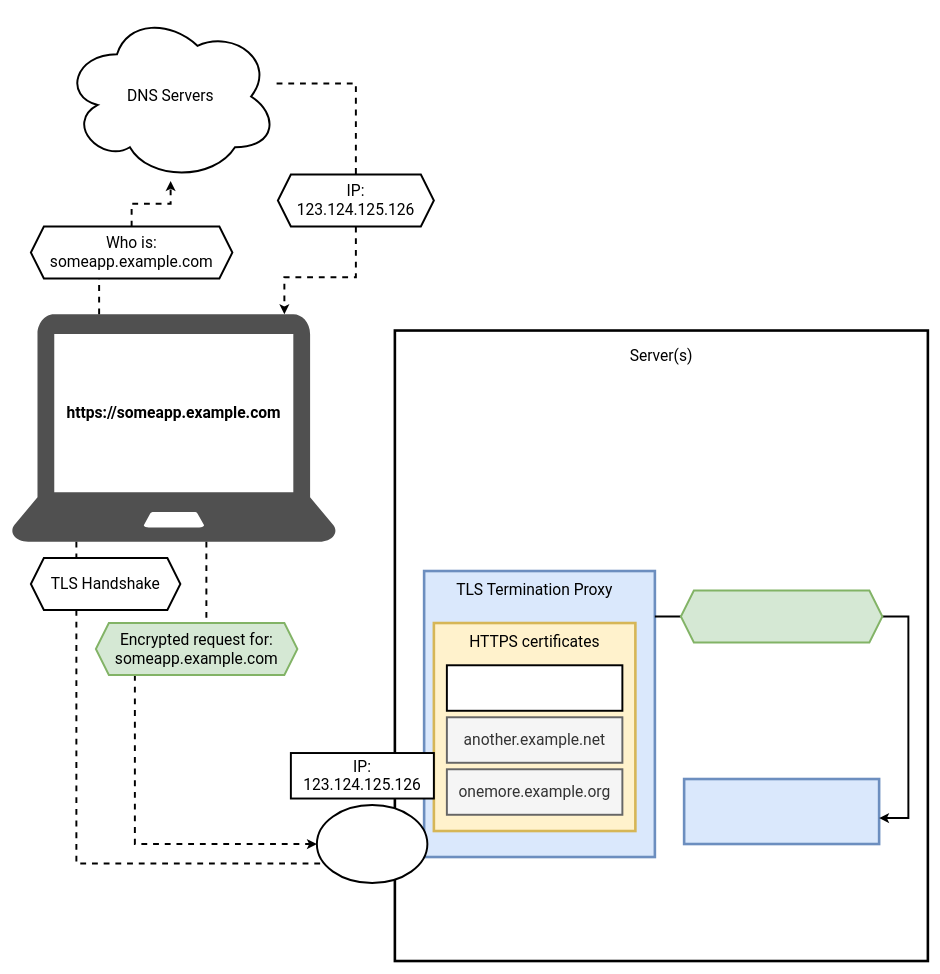
Some shapes in this 940 by 974 pixel diagram are drawn without their labels. Here are the shapes that lost their labels. From the top down, the centre of each, then its label:
point 781,616: Decrypted request for: someapp.example.com
point 534,687: someapp.example.com
point 781,811: FastAPI app for: someapp.example.com
point 372,844: Port 443 (HTTPS)
